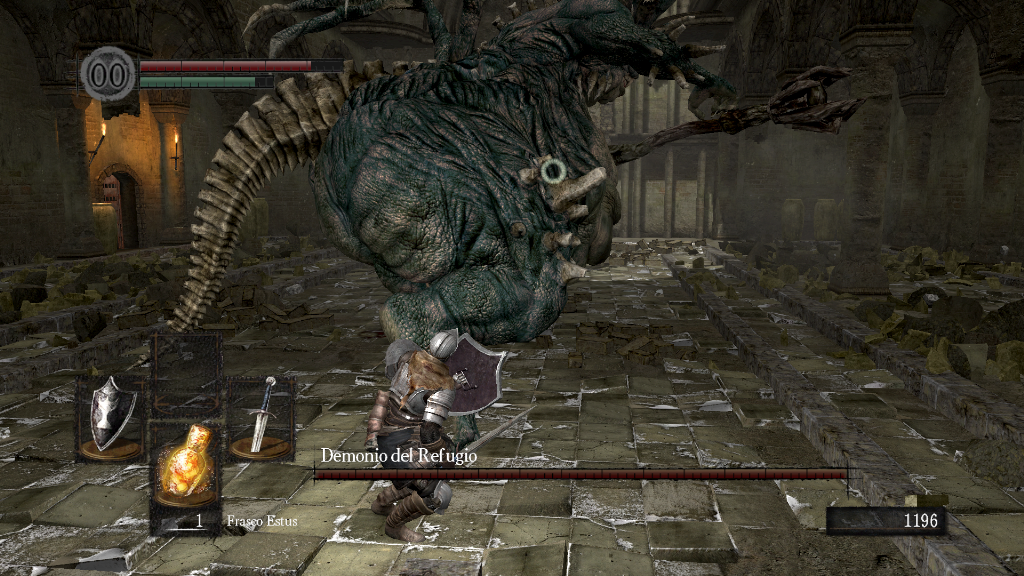asylumDemon: (134, 3, 872, 414)
bossHP: (314, 469, 847, 479)
health: (138, 58, 343, 71)
humanity: (80, 45, 136, 102)
player: (363, 326, 538, 541)
souls: (825, 506, 945, 536)
stamina: (138, 74, 274, 88)
